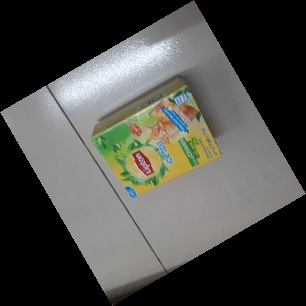LipTon: (90, 75, 224, 199)
